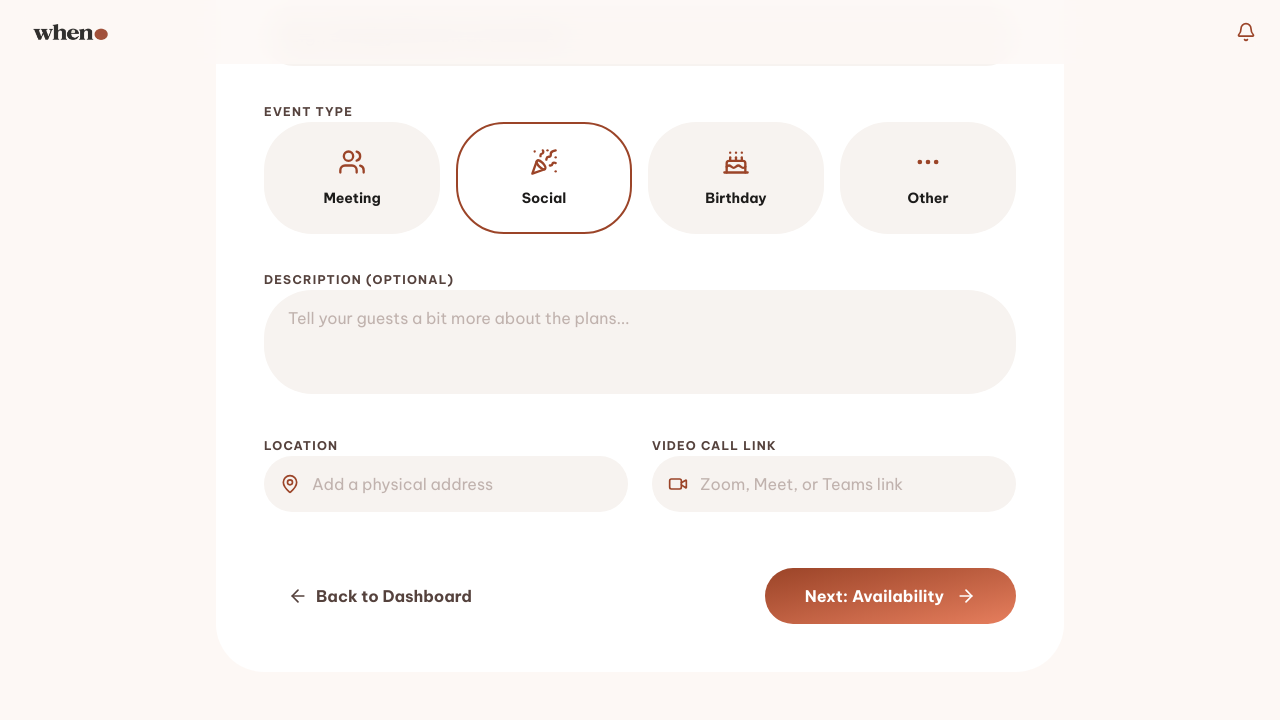
Scenario: CreateEventForm (NewEventPage) › shows validation error when submitting step 1 without event name
This screenshot has width=1280, height=720.
(page scrolled)
Click the button "Next: Availability" at (890, 596), box [765,568,1016,624]
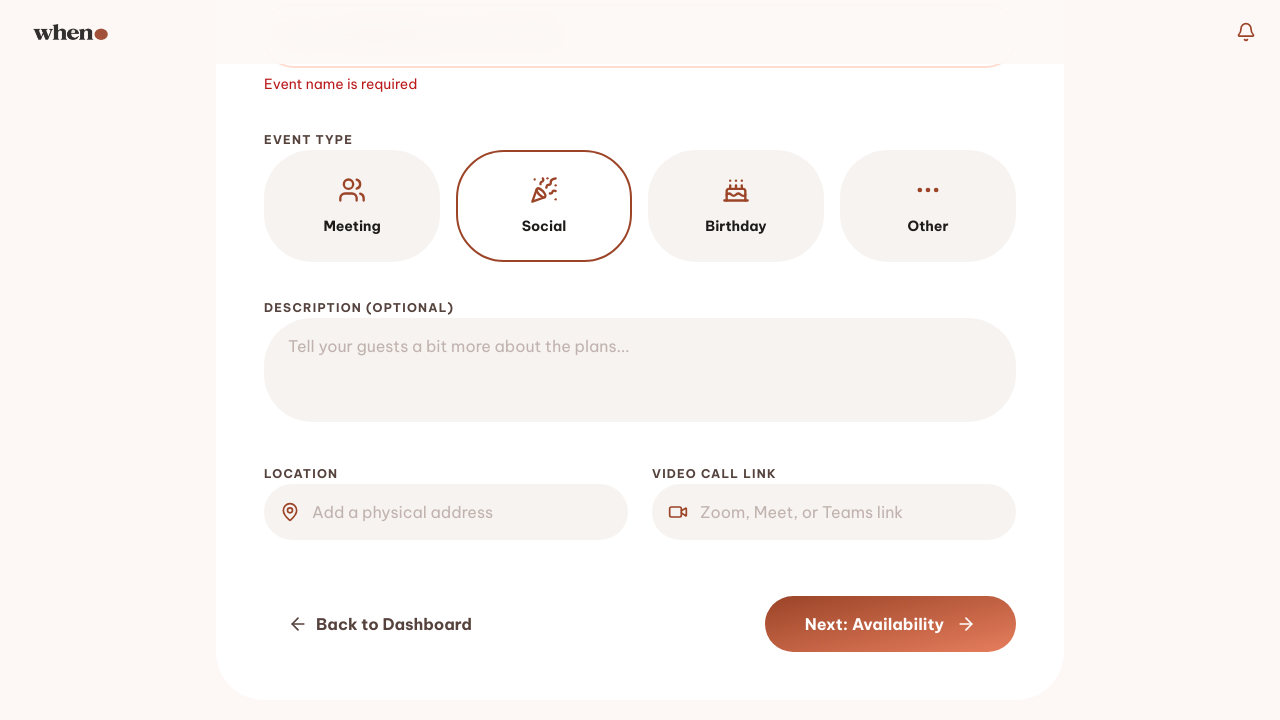
expect the text "Event name is required" is shown: met, box [264,75,417,93]
